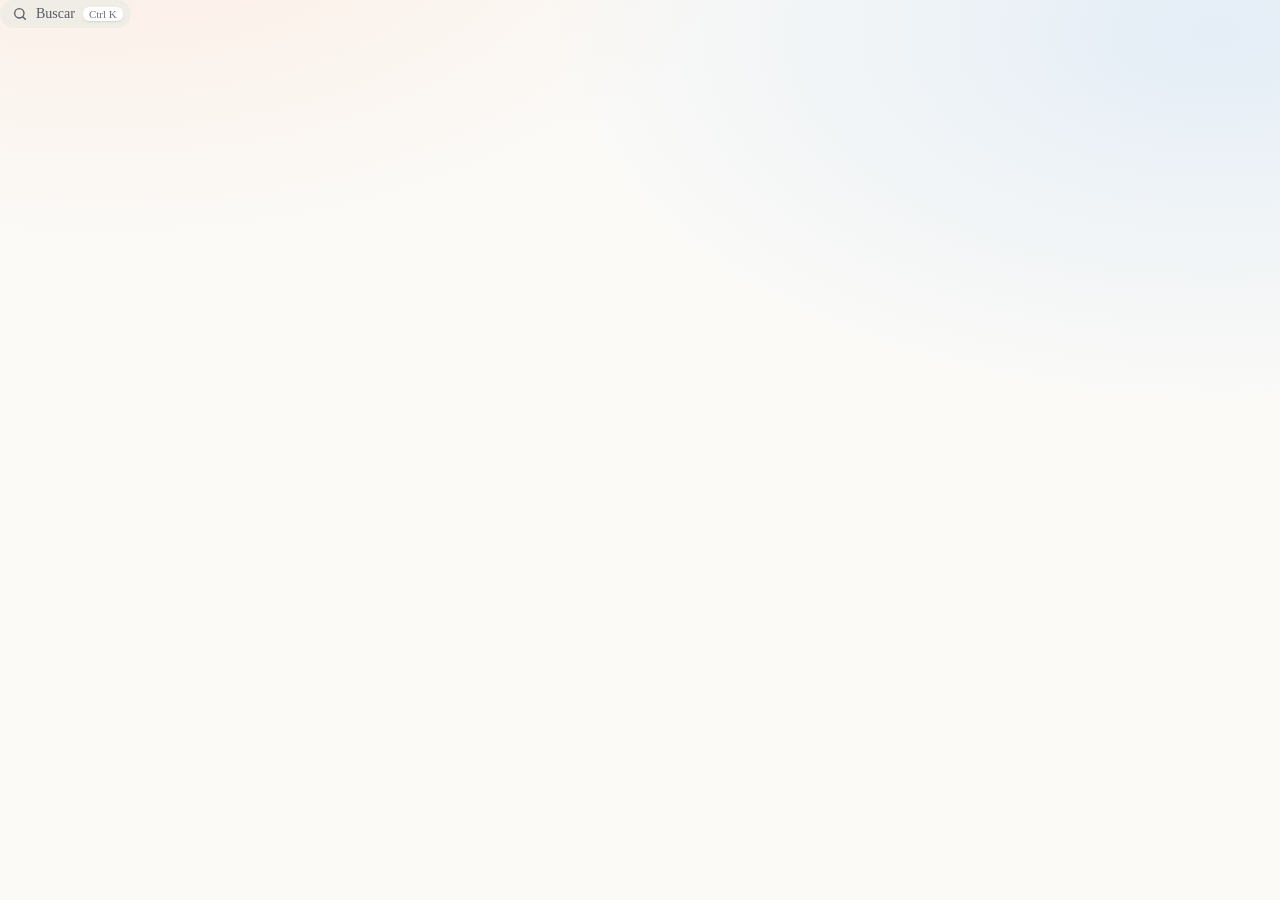
SearchCommand › filters by every word, ignoring accents and case
Click the button "Buscar Ctrl K" at (65, 14), box [0, 0, 131, 28]
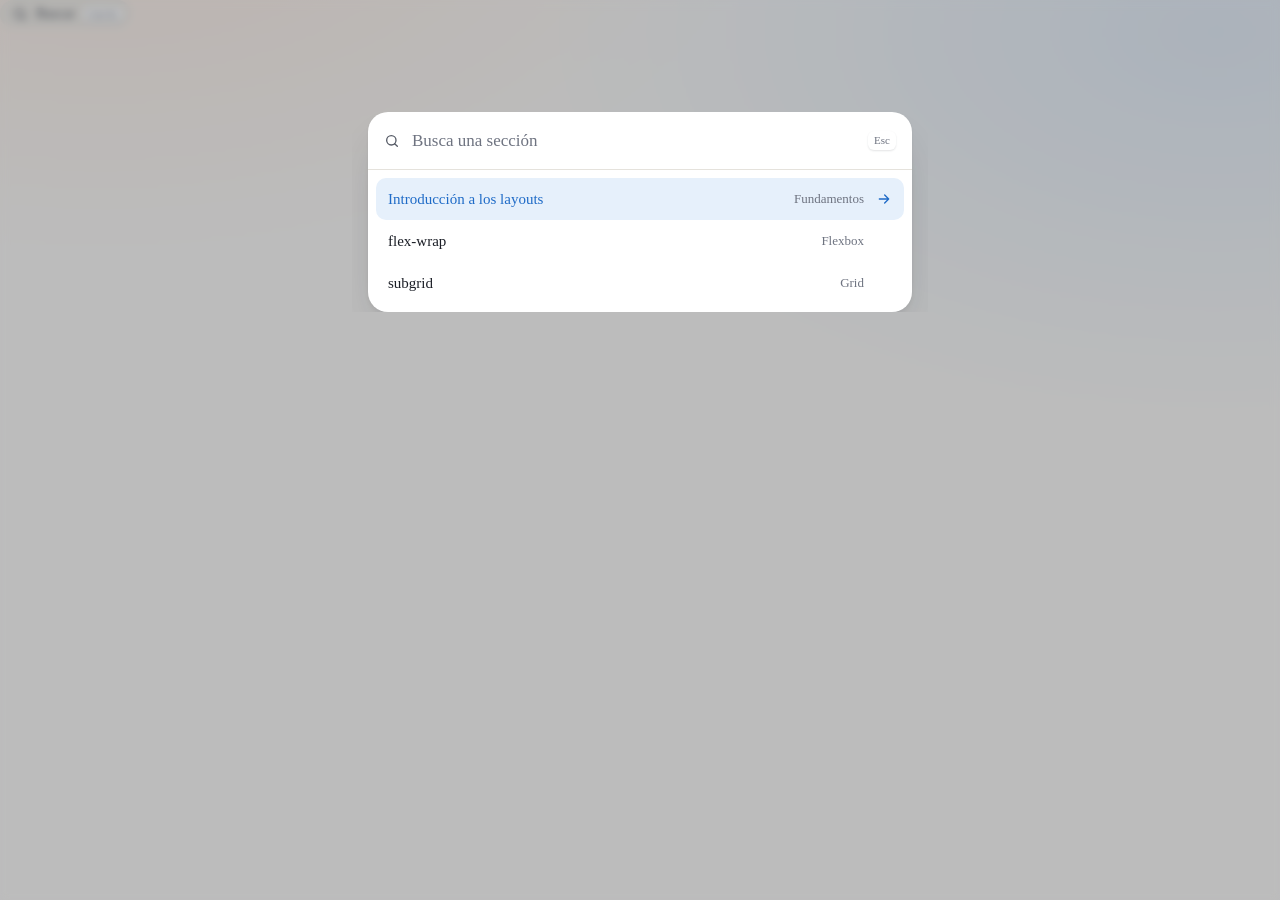
Type "INTRODUCCION fundamentos" into the dropdown at (634, 141), box [410, 126, 858, 155]
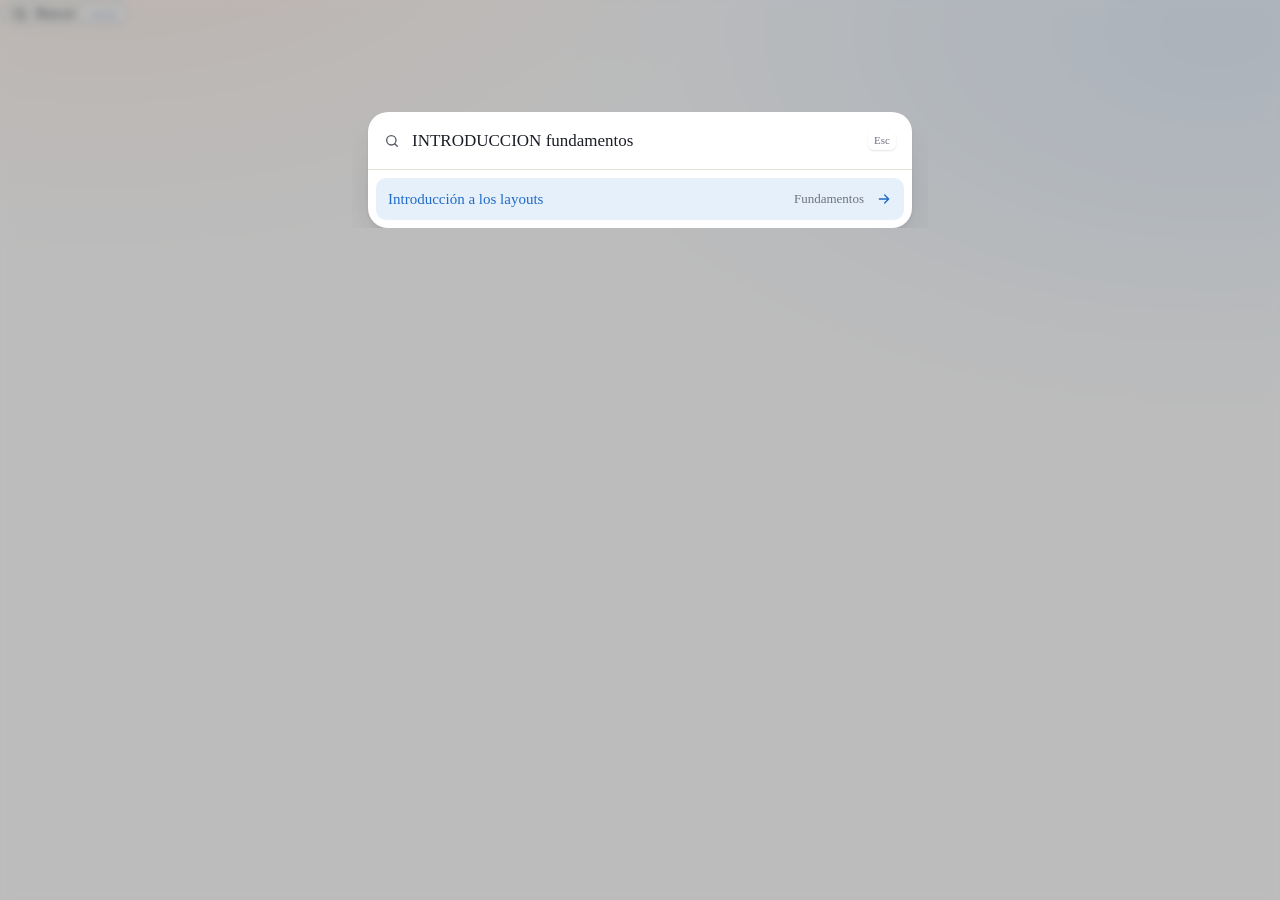
Expected: the option shows "Introducción a los layouts", [376, 178, 904, 220]
Expected: the number of options is 1, [376, 178, 904, 220]
